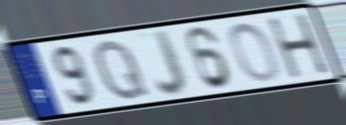6: (184, 24, 233, 91)
9: (49, 43, 98, 108)
H: (264, 11, 333, 82)
J: (153, 28, 190, 99)
O: (227, 20, 280, 84)
Q: (92, 37, 153, 104)
